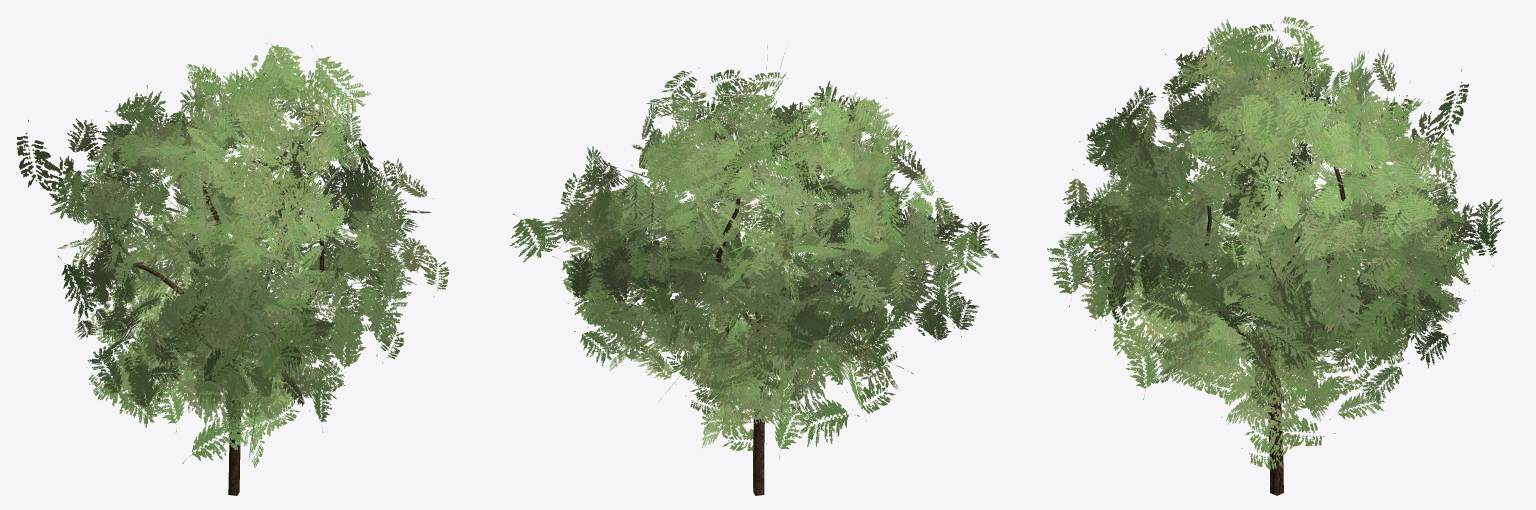
Rendered from tree_locust_v1_l1.glb.
3 views of the same model, side by side, from view 1: azimuth 30°, elevation 25°; view 2: azimuth 150°, elevation 25°; view 3: azimuth 270°, elevation 25° (orthographic). The views are drawn at different scales.
Parts seen in each view (by area): view 1: tree_locust_v1_l1; view 2: tree_locust_v1_l1; view 3: tree_locust_v1_l1.
Part boxes in pixels (left/top/right/bottom): tree_locust_v1_l1: left=16, top=42, right=449, bottom=495; tree_locust_v1_l1: left=510, top=45, right=999, bottom=495; tree_locust_v1_l1: left=1047, top=16, right=1504, bottom=495.
Size of the model in its own units: 10.54 by 10.65 by 9.83.
Materials: 2 (2 with a texture image).
